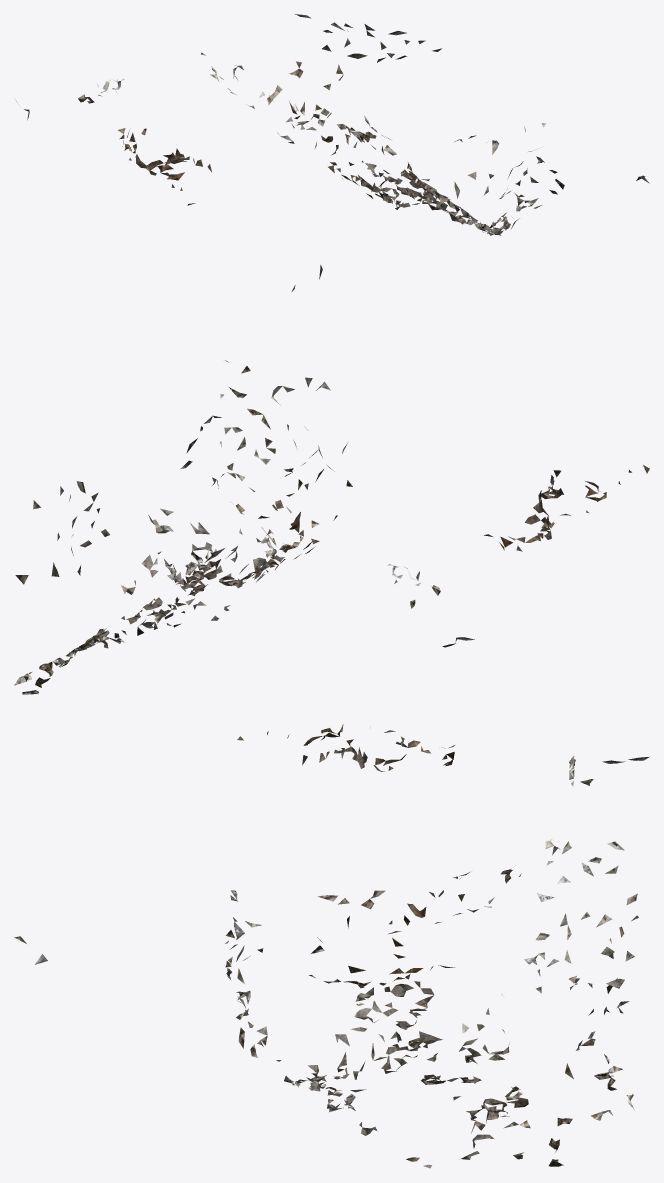
3 renders of one model, top to bottom at view 1: azimuth 30°, elevation 25°; view 2: azimuth 150°, elevation 25°; view 3: azimuth 270°, elevation 25°, orthographic. The views are drawn at different scales.
Size of the model in its own units: 4.59 by 2.13 by 5.45.
1 material, 1 textured.
